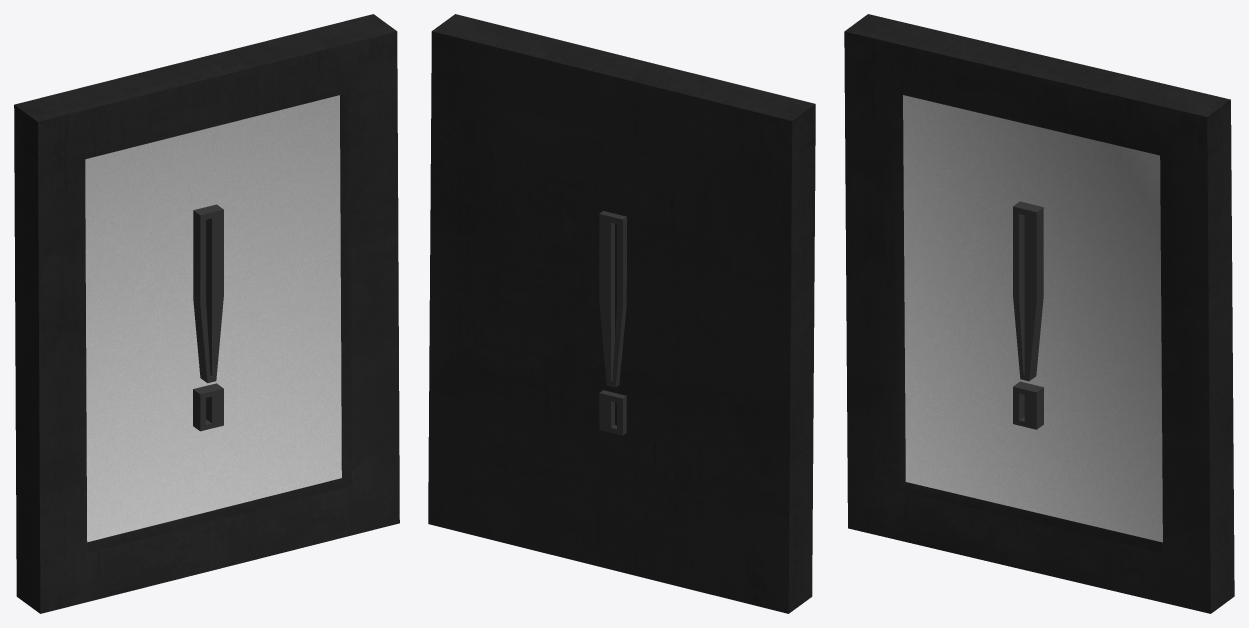
The model's file is Gakubutimdl_1.fbx.
The picture shows the model from 3 angles, left to right: view 1: azimuth 30°, elevation 25°; view 2: azimuth 150°, elevation 25°; view 3: azimuth 330°, elevation 25°; orthographic projection.
Visible parts, largest first — view 1: Gaku1; view 2: Gaku1; view 3: Gaku1.
Boxes of the visible parts, x1,y1,x2,y2 form: Gaku1: (14,14,399,613); Gaku1: (428,14,815,613); Gaku1: (844,14,1234,613).
Bounding box in the file's own units: 62.12 × 81.04 × 8.31.
